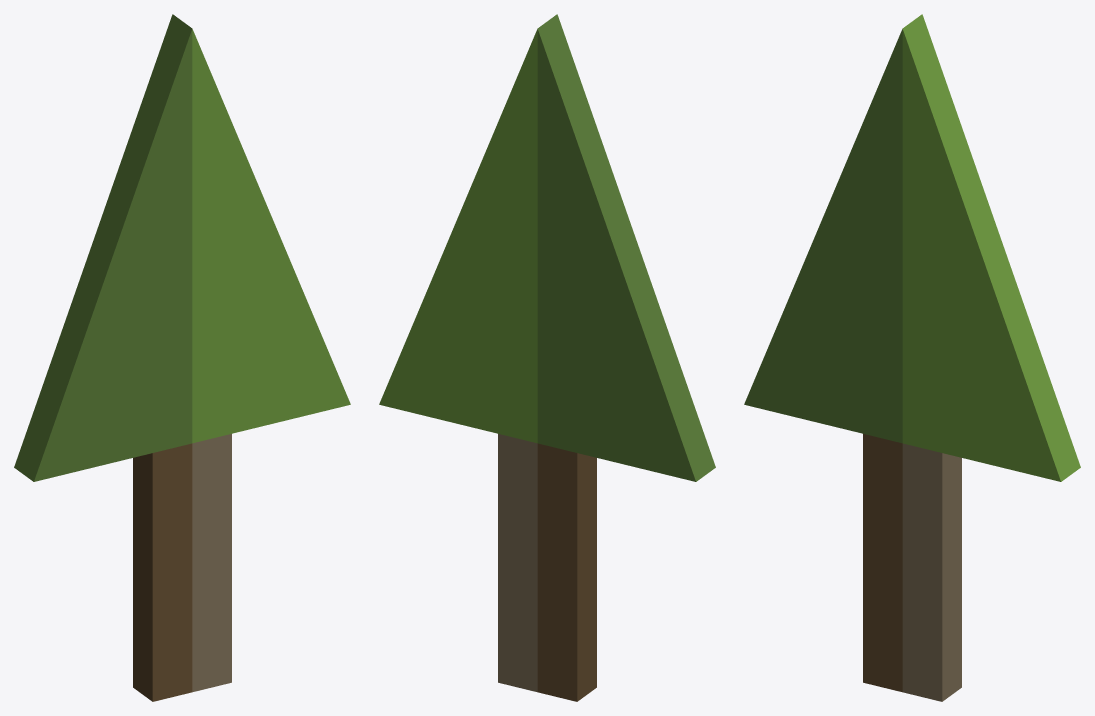
Rendered from tree-mid.fbx.
3 views of the same model, side by side, from view 1: azimuth 30°, elevation 25°; view 2: azimuth 150°, elevation 25°; view 3: azimuth 330°, elevation 25° (orthographic).
Parts seen in each view (by area): view 1: Plane; view 2: Plane; view 3: Plane.
Part boxes in pixels (x1,y1,x2,y2): Plane: [14, 14, 350, 701]; Plane: [379, 14, 715, 701]; Plane: [744, 14, 1080, 701].
Bounding box in the file's own units: 24000 × 48000 × 2600.
